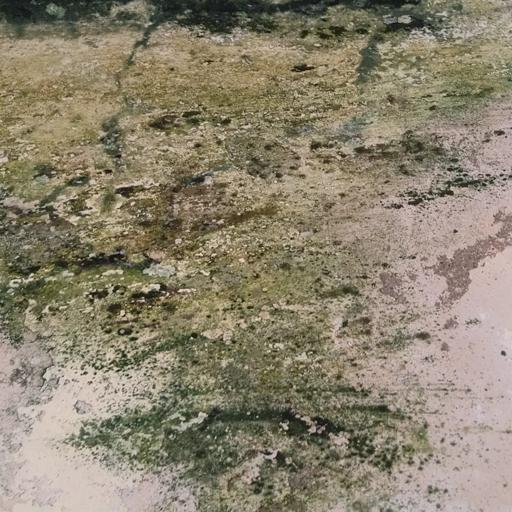algae: (0, 3, 512, 469)
